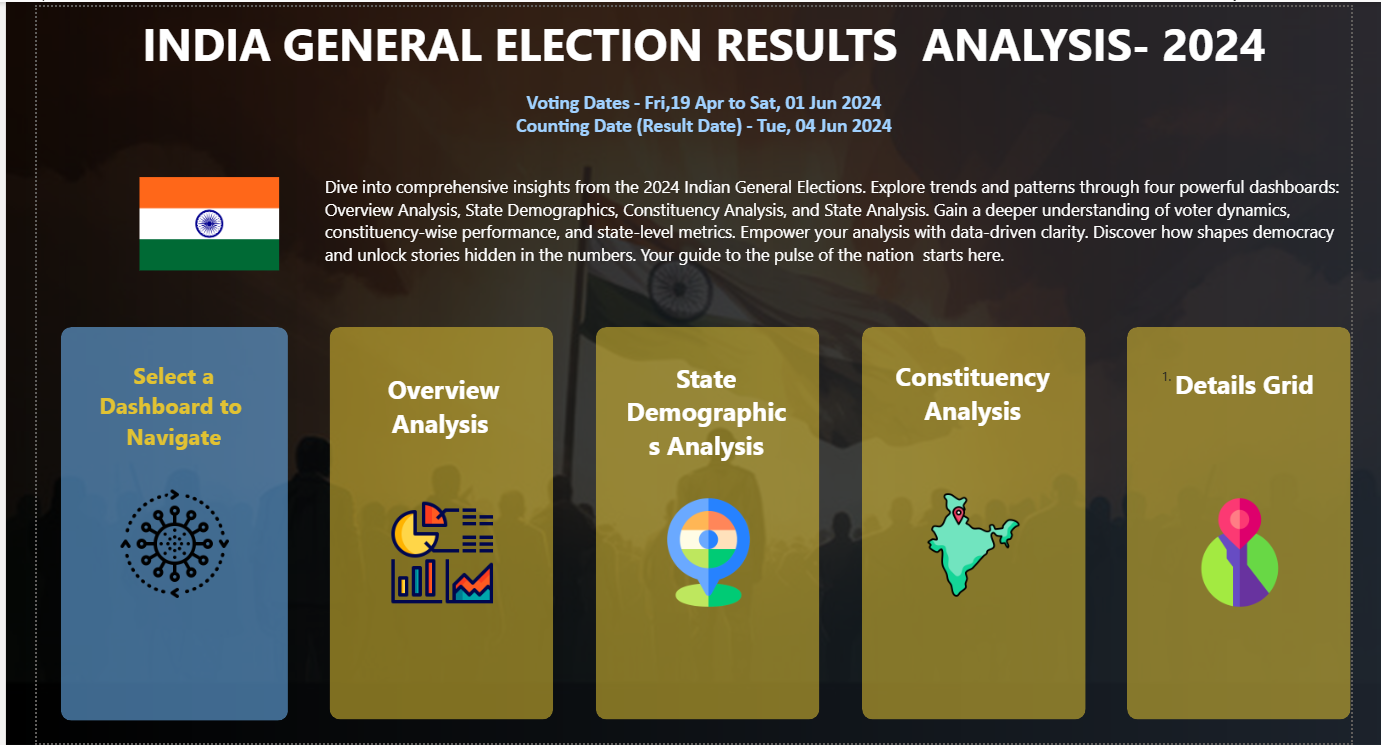

Layout of this report page (visuals, bound fields, positions):
{"tool":"powerbi","page":{"name":"Landing Page","canvas":[1250,700],"ordinal":0},"visuals":[{"type":"shape","box":[531.4,304.3,212.8,373.3],"z":0},{"type":"textbox","box":[19,0,1230.5,132],"z":1000},{"type":"textbox","box":[268.7,154.6,980.8,103.4],"z":5000},{"type":"image","box":[97.5,154.6,133.2,103.4],"z":6000},{"type":"shape","box":[22.6,304.3,216.4,374.5],"z":7000},{"type":"shape","box":[278.8,304.3,212.8,373.3],"z":8000},{"type":"shape","box":[1036.7,304.3,212.8,373.3],"z":9000},{"type":"shape","box":[784.1,304.3,212.8,373.3],"z":10000},{"type":"textbox","box":[46.4,330.5,167.6,105.8],"z":11000},{"type":"textbox","box":[299.6,342.4,167.6,93.9],"z":12000},{"type":"textbox","box":[552.8,331.7,167.6,116.5],"z":13000},{"type":"textbox","box":[806.1,330.5,167.6,93.9],"z":14000},{"type":"textbox","box":[1059.3,337.6,167.6,93.9],"z":15000},{"type":"image","box":[64.2,458.9,133.2,103.4],"z":15001},{"type":"image","box":[318.6,467.2,133.2,103.4],"z":15002},{"type":"image","box":[571.8,467.2,133.2,103.4],"z":15003},{"type":"image","box":[823.9,460.1,133.2,103.4],"z":15004},{"type":"image","box":[1077.1,467.2,133.2,103.4],"z":15005}]}

Visuals, with their boxes on the page's 1250x700 design canvas (x1, y1, x2, y2). These are canvas units, not pixel positions in the 1381x745 screenshot, which may show the page scaled, cropped or inside an application window:
shape: 531/304/744/678
textbox: 19/0/1250/132
textbox: 269/155/1250/258
image: 98/155/231/258
shape: 23/304/239/679
shape: 279/304/492/678
shape: 1037/304/1250/678
shape: 784/304/997/678
textbox: 46/330/214/436
textbox: 300/342/467/436
textbox: 553/332/720/448
textbox: 806/330/974/424
textbox: 1059/338/1227/432
image: 64/459/197/562
image: 319/467/452/571
image: 572/467/705/571
image: 824/460/957/564
image: 1077/467/1210/571
